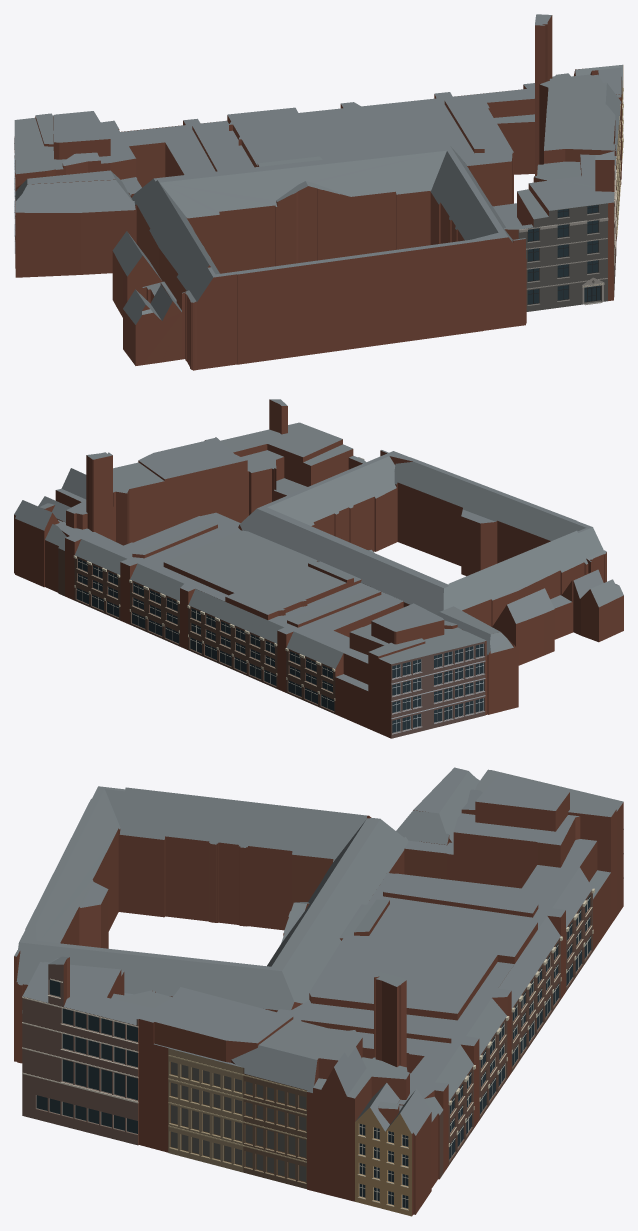
Rendered from recipe-large-kloveniersburgwal-72-171179.glb.
3 views of the same model, one above another, from view 1: azimuth 30°, elevation 25°; view 2: azimuth 150°, elevation 25°; view 3: azimuth 270°, elevation 25° (orthographic). The views are drawn at different scales.
Visible parts, largest first — view 1: kloveniersburgwal-72-171179; view 2: kloveniersburgwal-72-171179; view 3: kloveniersburgwal-72-171179.
Boxes of the visible parts, x1=… form: kloveniersburgwal-72-171179: x1=14, y1=14, x2=623, y2=370; kloveniersburgwal-72-171179: x1=14, y1=399, x2=623, y2=738; kloveniersburgwal-72-171179: x1=14, y1=767, x2=623, y2=1216.
Bounding box in the file's own units: 112 × 27.1 × 81.42.
